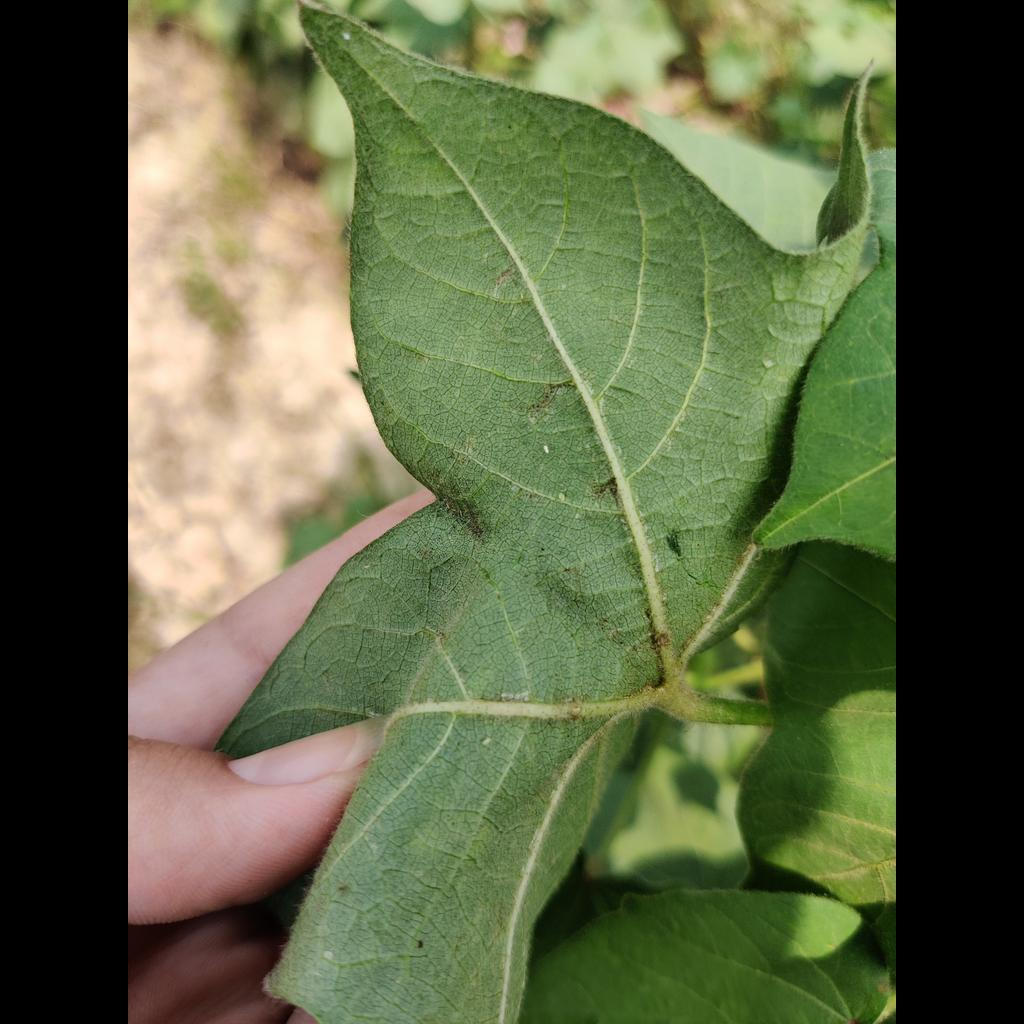nymph: (515, 691, 530, 701), (501, 691, 514, 699), (323, 951, 334, 960), (341, 32, 351, 41), (482, 737, 491, 745), (765, 359, 773, 367), (543, 445, 549, 454), (559, 493, 565, 501)
